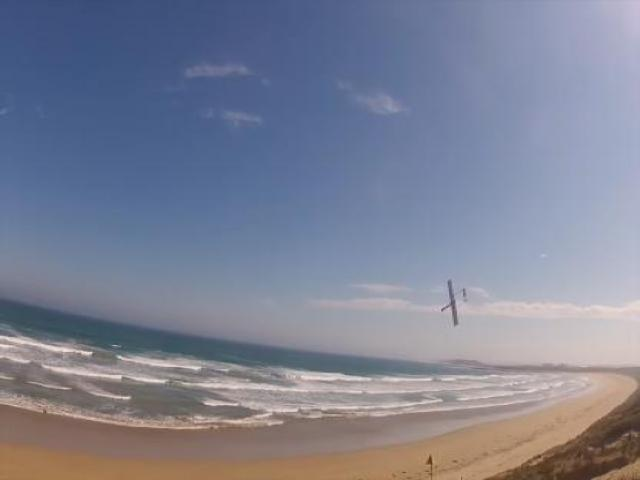uav: (440, 275, 469, 326)
